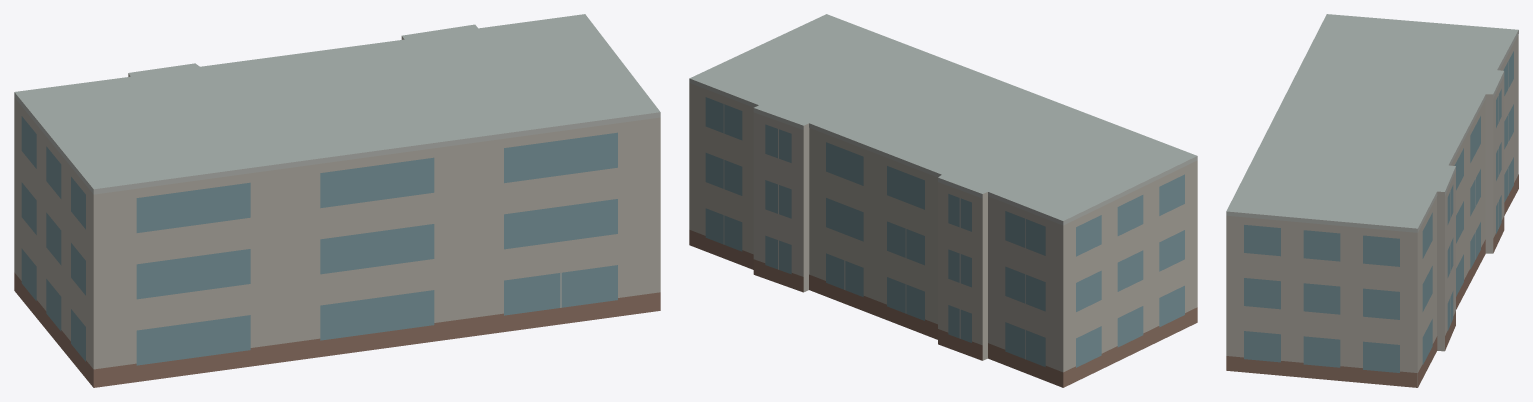
File: survey-upis-32998373.glb
3 renders of one model, left to right at view 1: azimuth 30°, elevation 25°; view 2: azimuth 150°, elevation 25°; view 3: azimuth 270°, elevation 25°, orthographic. The views are drawn at different scales.
Visible parts, largest first — view 1: survey-upis-32998373.tmp; view 2: survey-upis-32998373.tmp; view 3: survey-upis-32998373.tmp.
Boxes of the visible parts, bbox=[...] form: survey-upis-32998373.tmp: bbox=[14, 14, 660, 387]; survey-upis-32998373.tmp: bbox=[689, 14, 1197, 387]; survey-upis-32998373.tmp: bbox=[1226, 14, 1518, 387].
Size of the model in its own units: 26.45 by 9.15 by 15.24.
